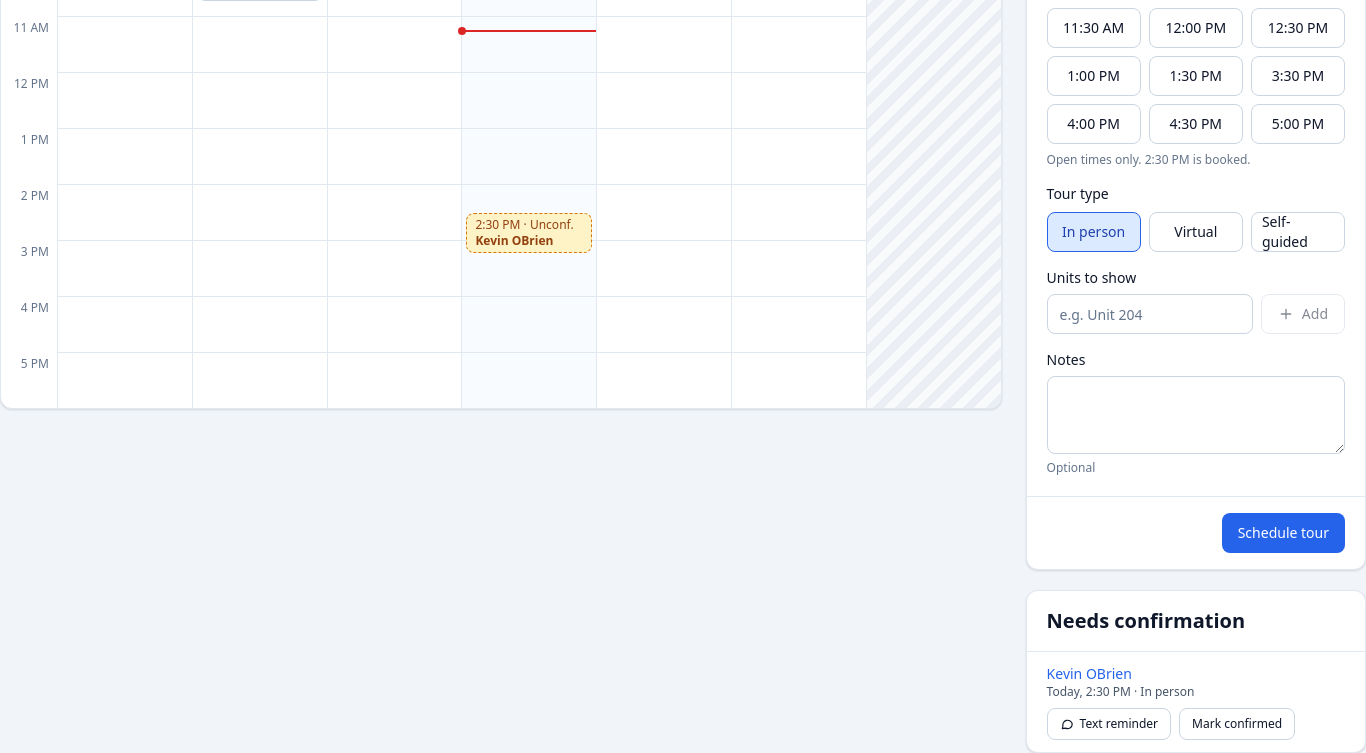
Scenario: ToursPage › schedule form › validates before submitting
The image size is (1366, 753).
(page scrolled)
What coordinates should you click on to do the following:
click the button "Schedule tour"
I would click on:
 (1283, 533)
Its box is [1222,513,1345,553].
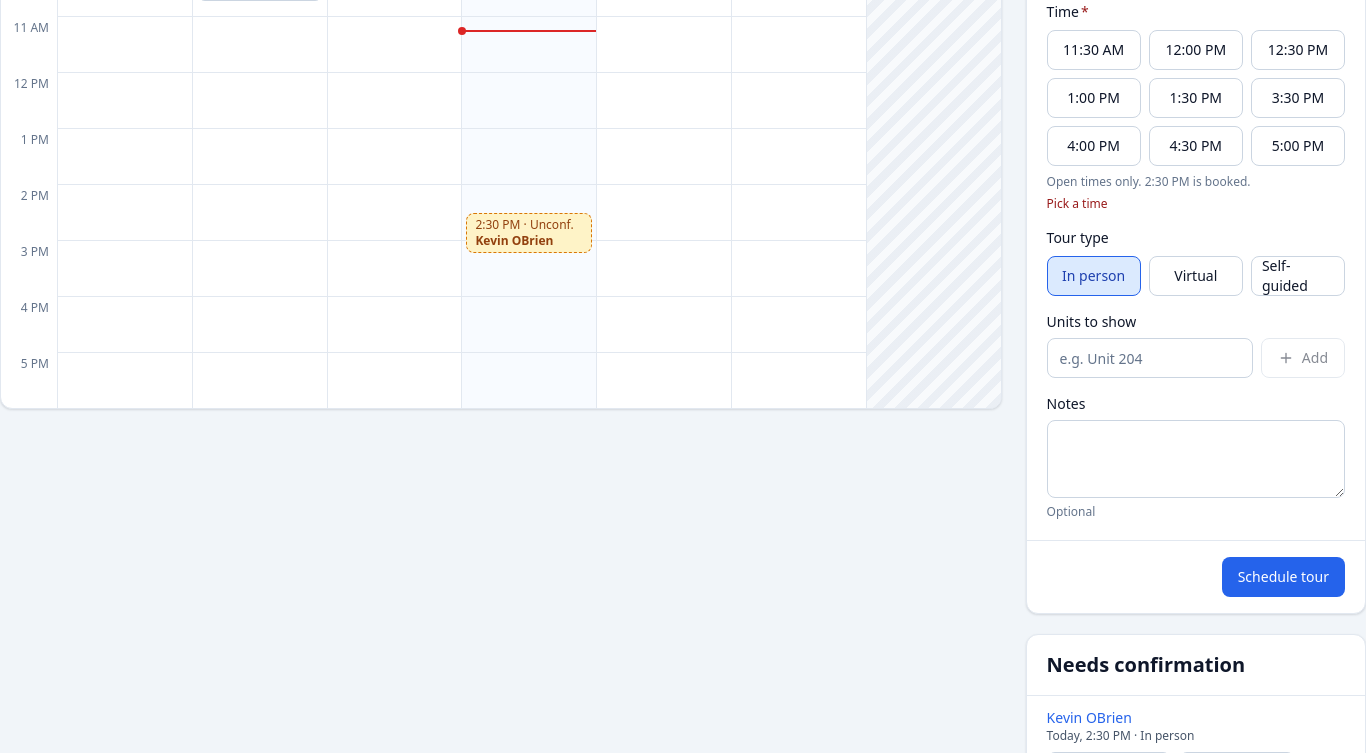
Now the text "Pick a time" is shown, box [1047,195,1108,212]
